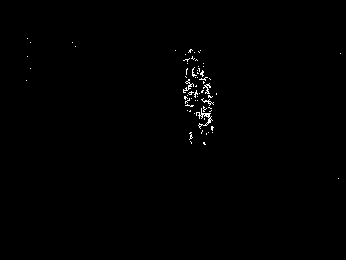person: (179, 50, 218, 149)
